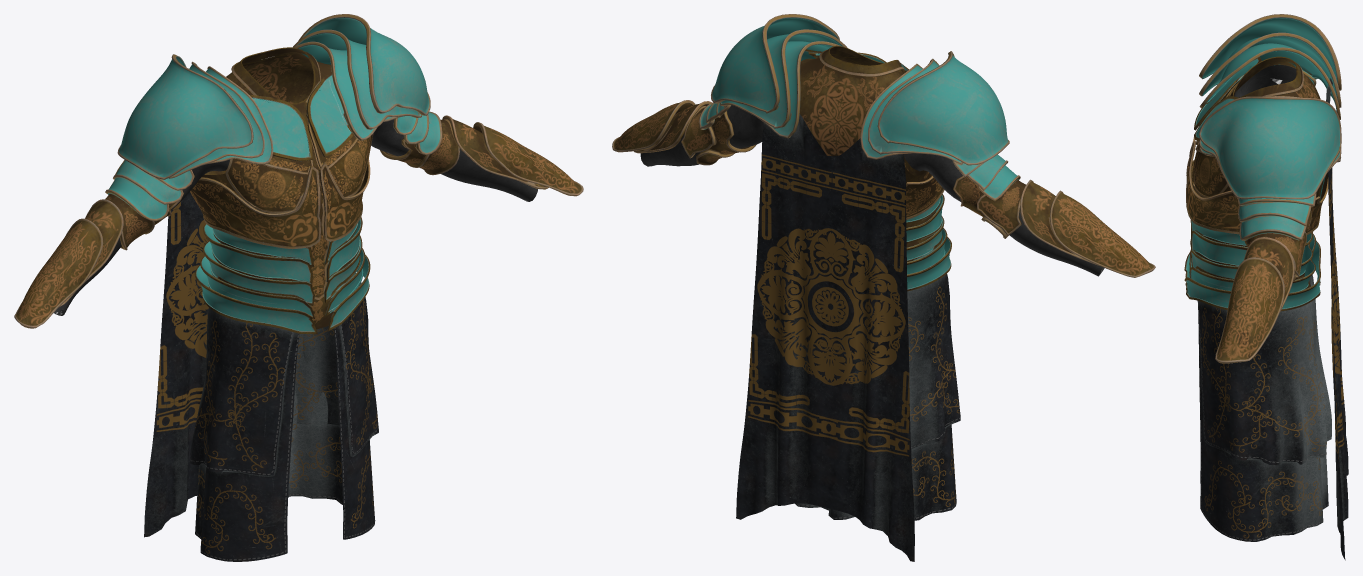
File: male_armour.glb
3 views of the same model, side by side, from view 1: azimuth 30°, elevation 25°; view 2: azimuth 150°, elevation 25°; view 3: azimuth 270°, elevation 25° (orthographic). The views are drawn at different scales.
Parts seen in each view (by area): view 1: Cl1, Arm1, Ch1, C1; view 2: Cl1, Arm1, Ch1, C1; view 3: Cl1, Arm1, Ch1, C1.
Boxes of the visible parts, box(x1,y1,x2,y2) form: Cl1: box(144, 192, 378, 561); Arm1: box(14, 14, 583, 328); Ch1: box(190, 47, 373, 334); C1: box(54, 119, 537, 315); Cl1: box(736, 114, 960, 561); Arm1: box(612, 14, 1155, 277); Ch1: box(799, 45, 951, 291); C1: box(640, 105, 1104, 276); Cl1: box(1197, 78, 1348, 560); Arm1: box(1199, 14, 1341, 363); Ch1: box(1184, 56, 1328, 311); C1: box(1234, 65, 1296, 97).
Bounding box in the file's own units: 2.18 × 1.85 × 0.5919.
Materials: 4 (4 with a texture image).
